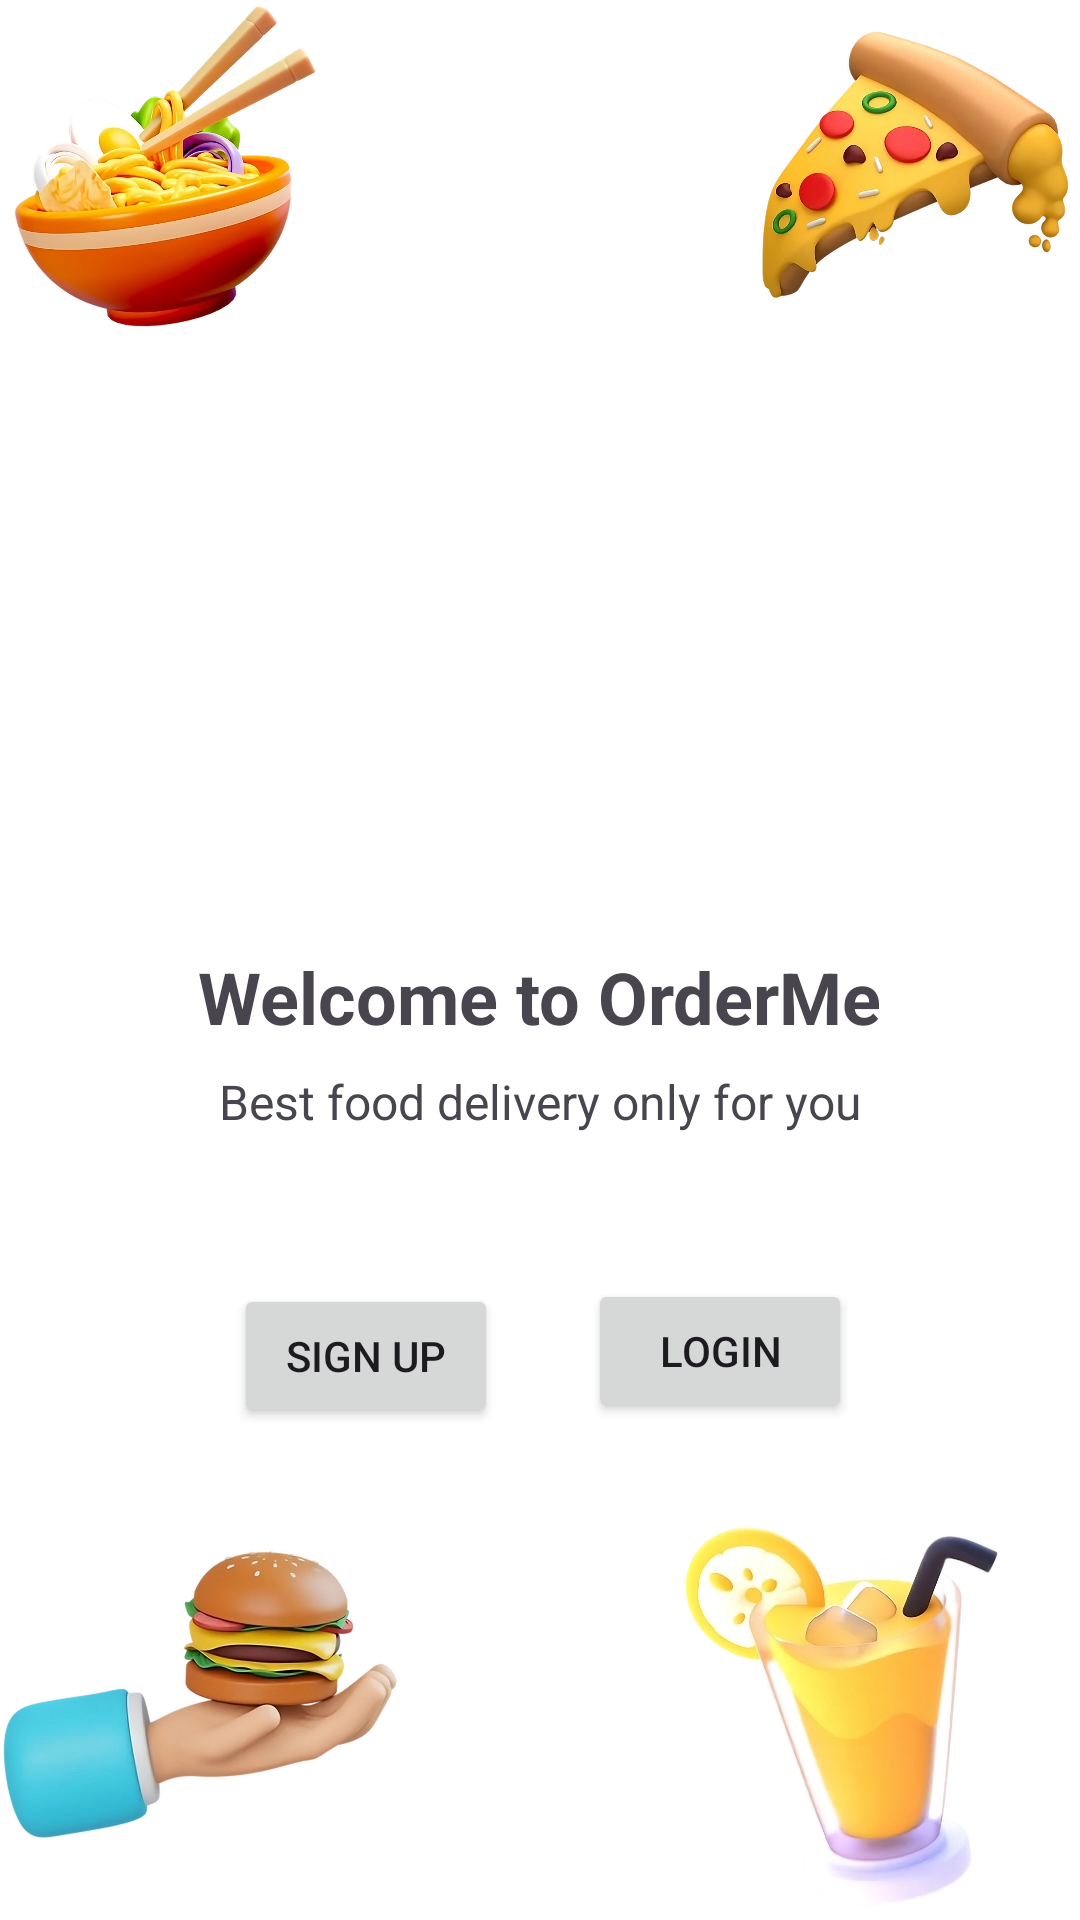

Icon click points for this 1080x1920 phone screenshot, format [x,y]:
noodles: [165,166]
pizzaslice: [915,165]
